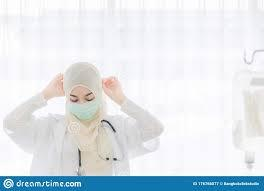Wearing Mask: (39, 45, 113, 130)
